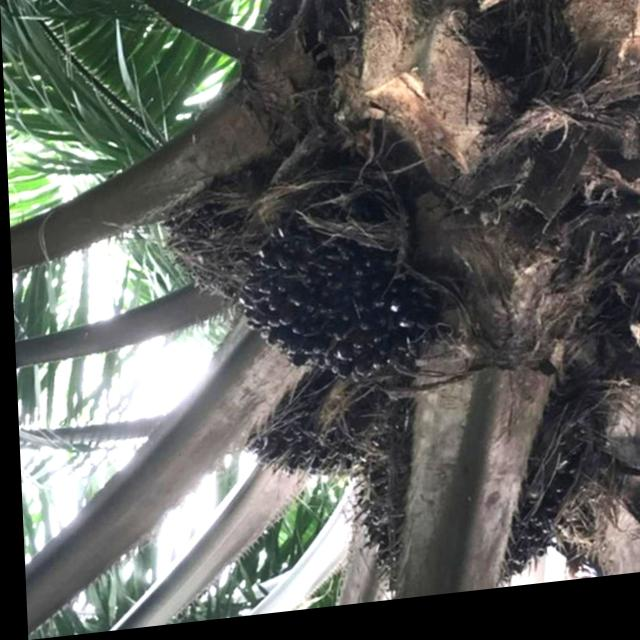almost: (217, 176, 465, 406)
